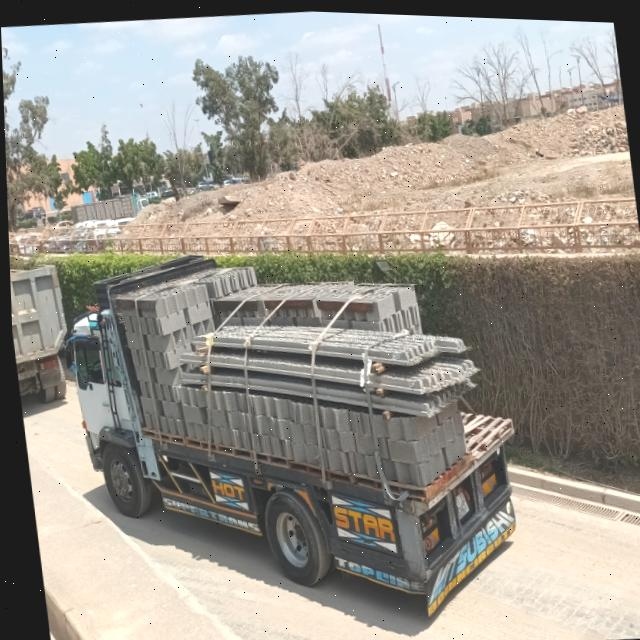bricks: (115, 268, 476, 486)
